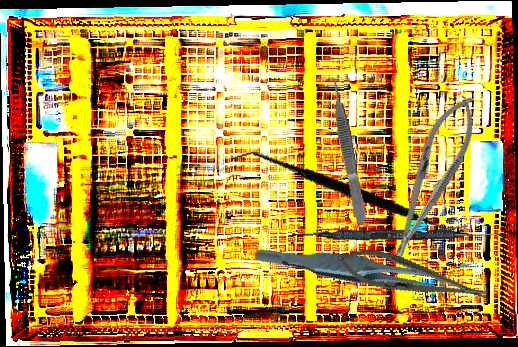Needle Holder: (374, 87, 489, 271), (332, 239, 492, 316)
Spatula Surgical: (230, 111, 468, 274), (291, 227, 507, 243)
Tissue Forceps: (253, 208, 452, 332), (328, 76, 369, 227)
